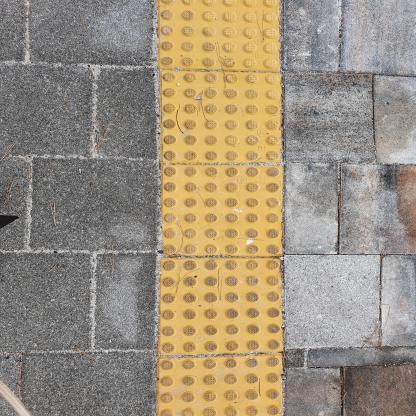podotacti: (147, 0, 295, 415)
